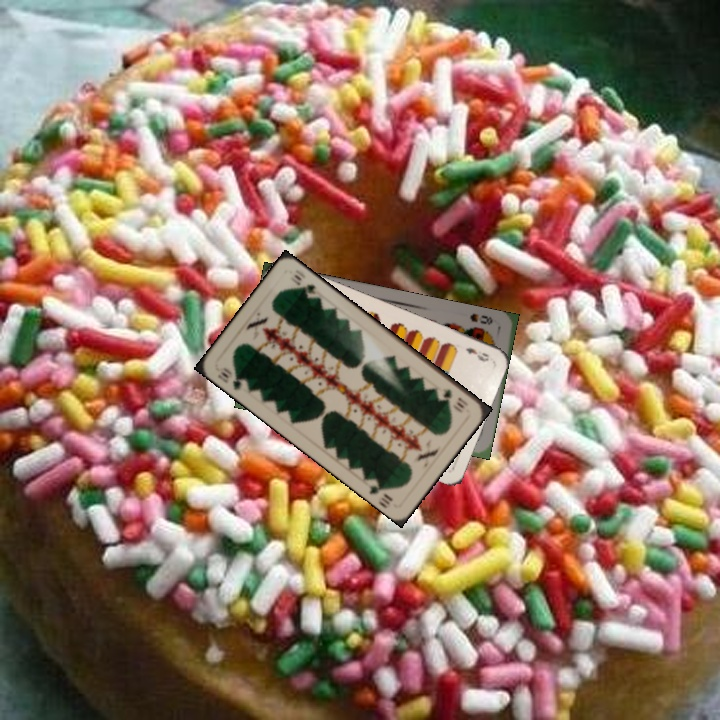E9: (461, 343, 491, 365)
G10: (213, 363, 251, 393), (439, 384, 471, 411)
S8: (466, 309, 495, 327)
